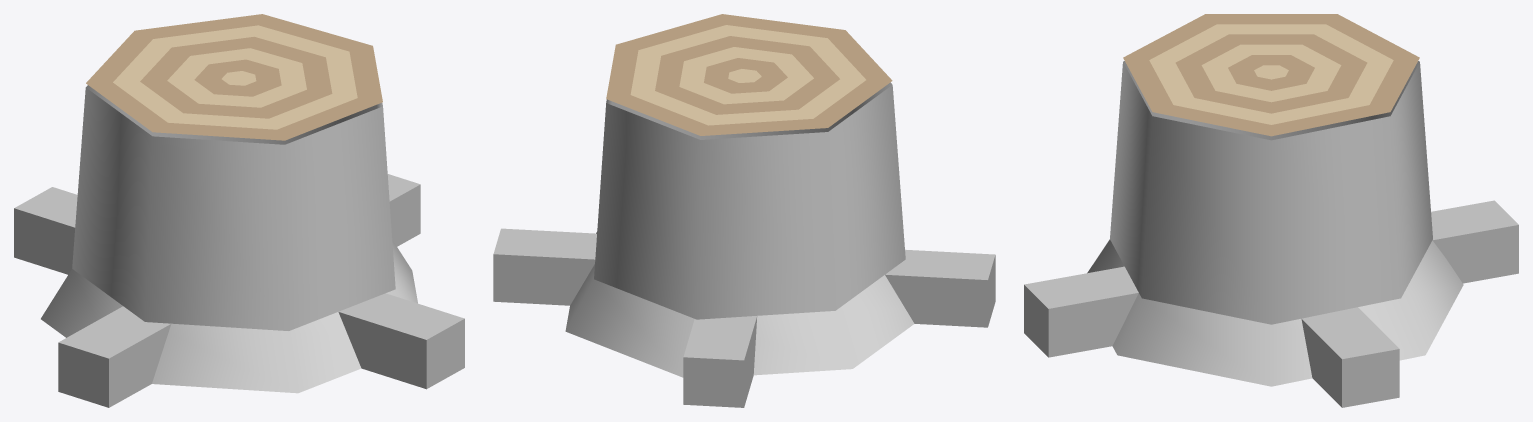
The model's file is stump.glb.
3 views of the same model, side by side, from view 1: azimuth 30°, elevation 25°; view 2: azimuth 150°, elevation 25°; view 3: azimuth 270°, elevation 25° (orthographic). The views are drawn at different scales.
Visible parts, largest first — view 1: Stump; view 2: Stump; view 3: Stump.
Part boxes in pixels (left/top/right/bottom): Stump: left=14, top=14, right=464, bottom=407; Stump: left=493, top=14, right=995, bottom=407; Stump: left=1024, top=14, right=1518, bottom=407.
Bounding box in the file's own units: 1.1 × 0.57 × 1.1.
